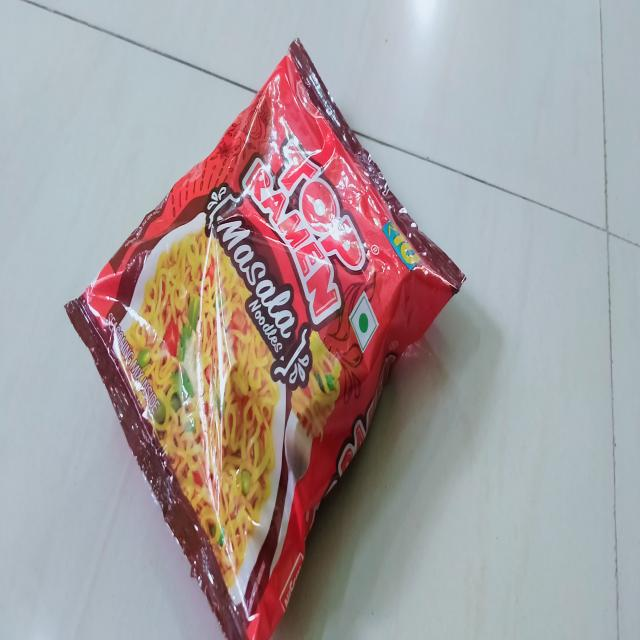maggi: (66, 43, 465, 640)
